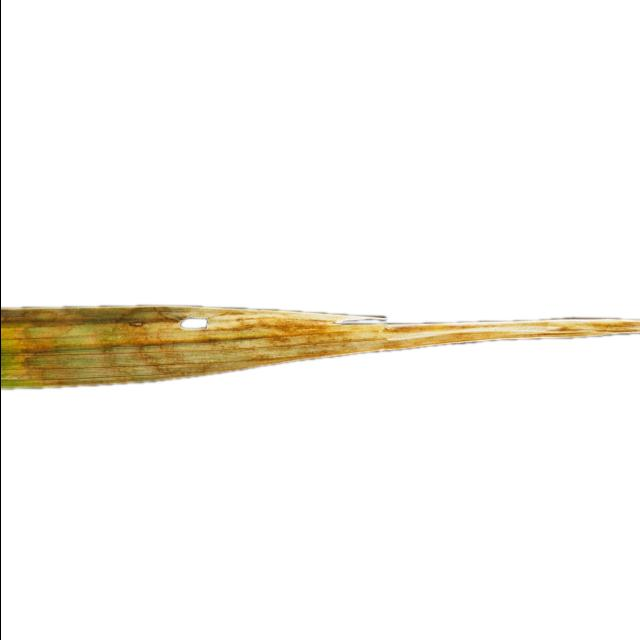Leaf scald: (0, 212, 640, 475)
